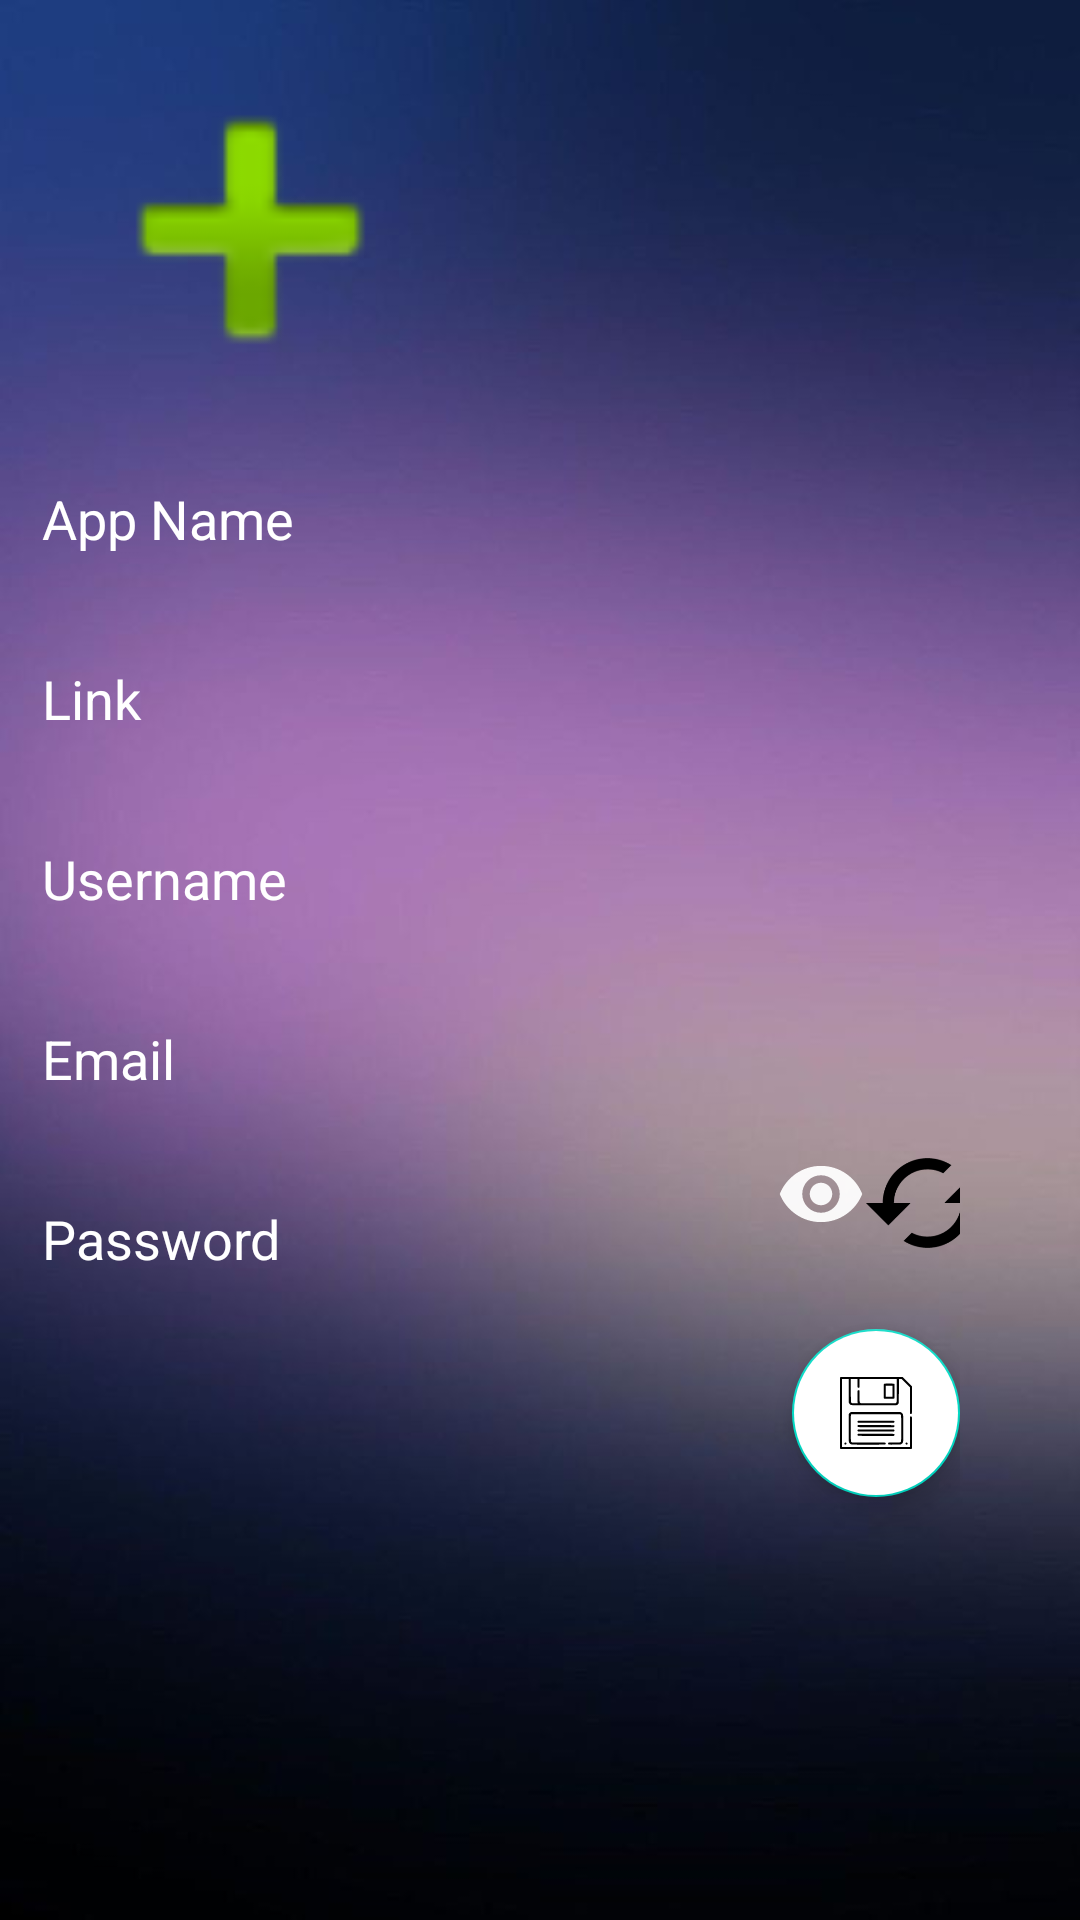

Icon click points for this 1080w x 1920h phone screenshot, format point (x, y):
saver: point (876, 1413)
showpswdbtn: point (821, 1194)
